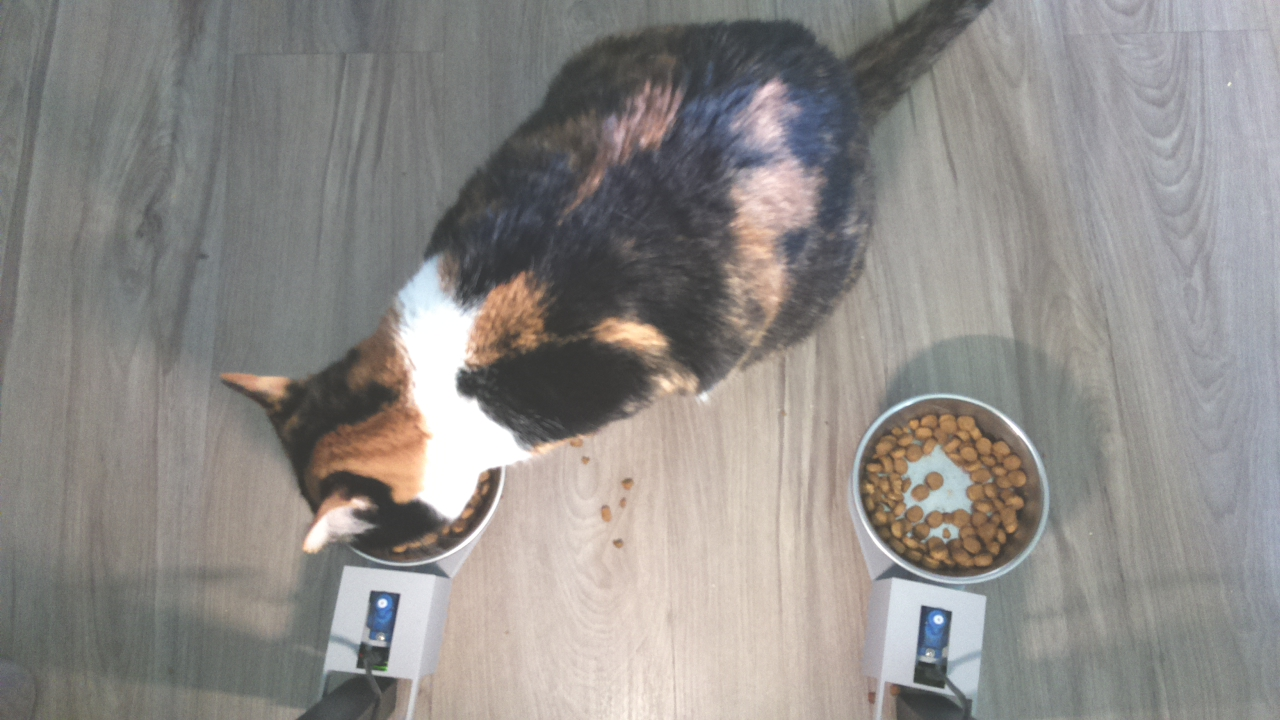bella_eating: (219, 279, 521, 573)
open_bowl: (850, 389, 1054, 591)
